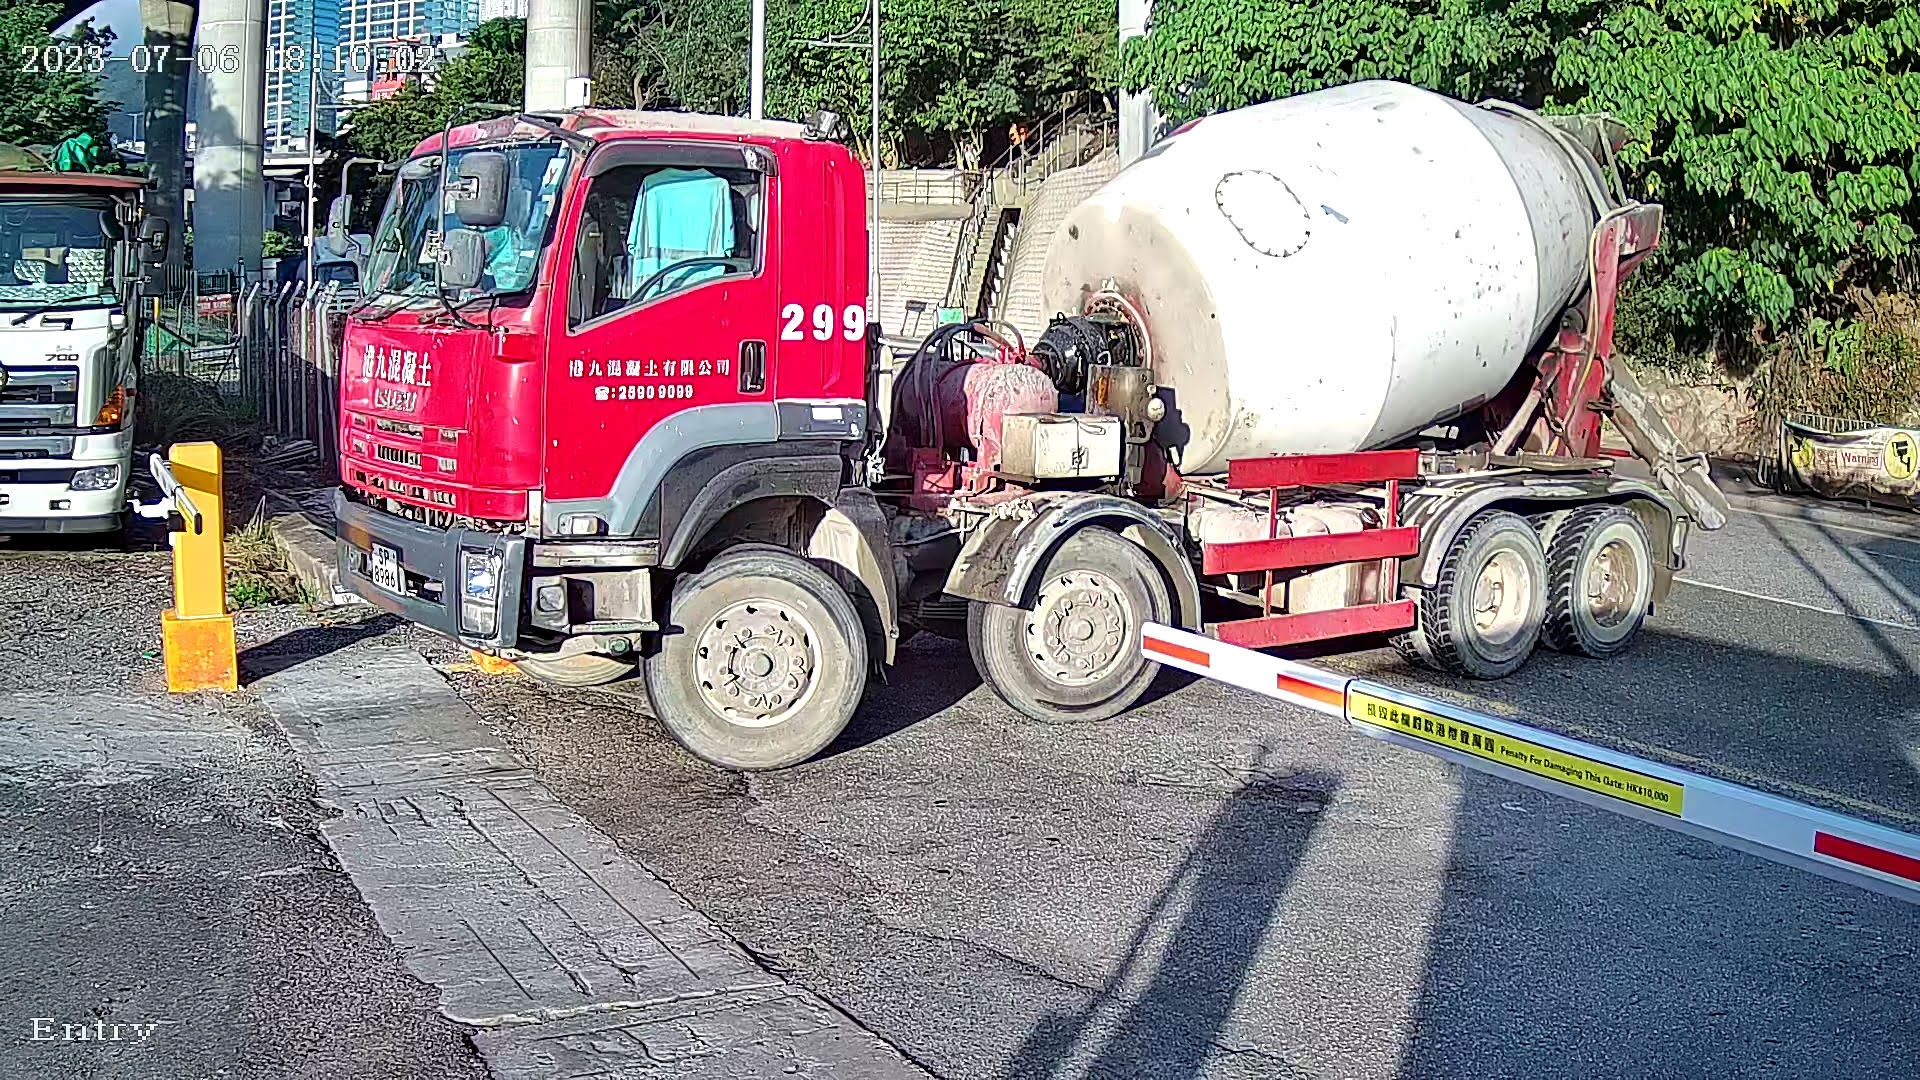dump_truck: (295, 18, 1778, 791)
